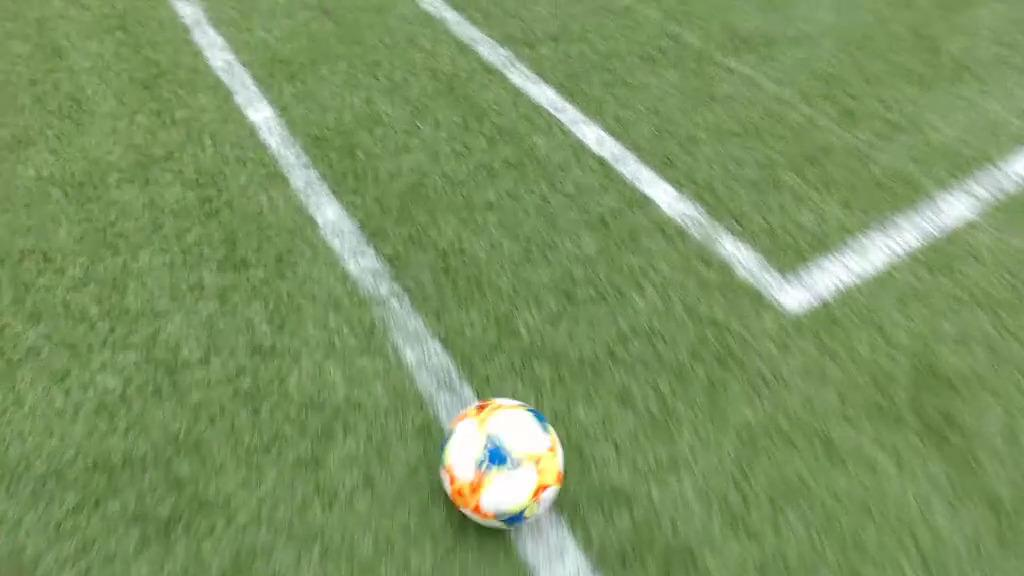ball: (439, 399, 563, 530)
